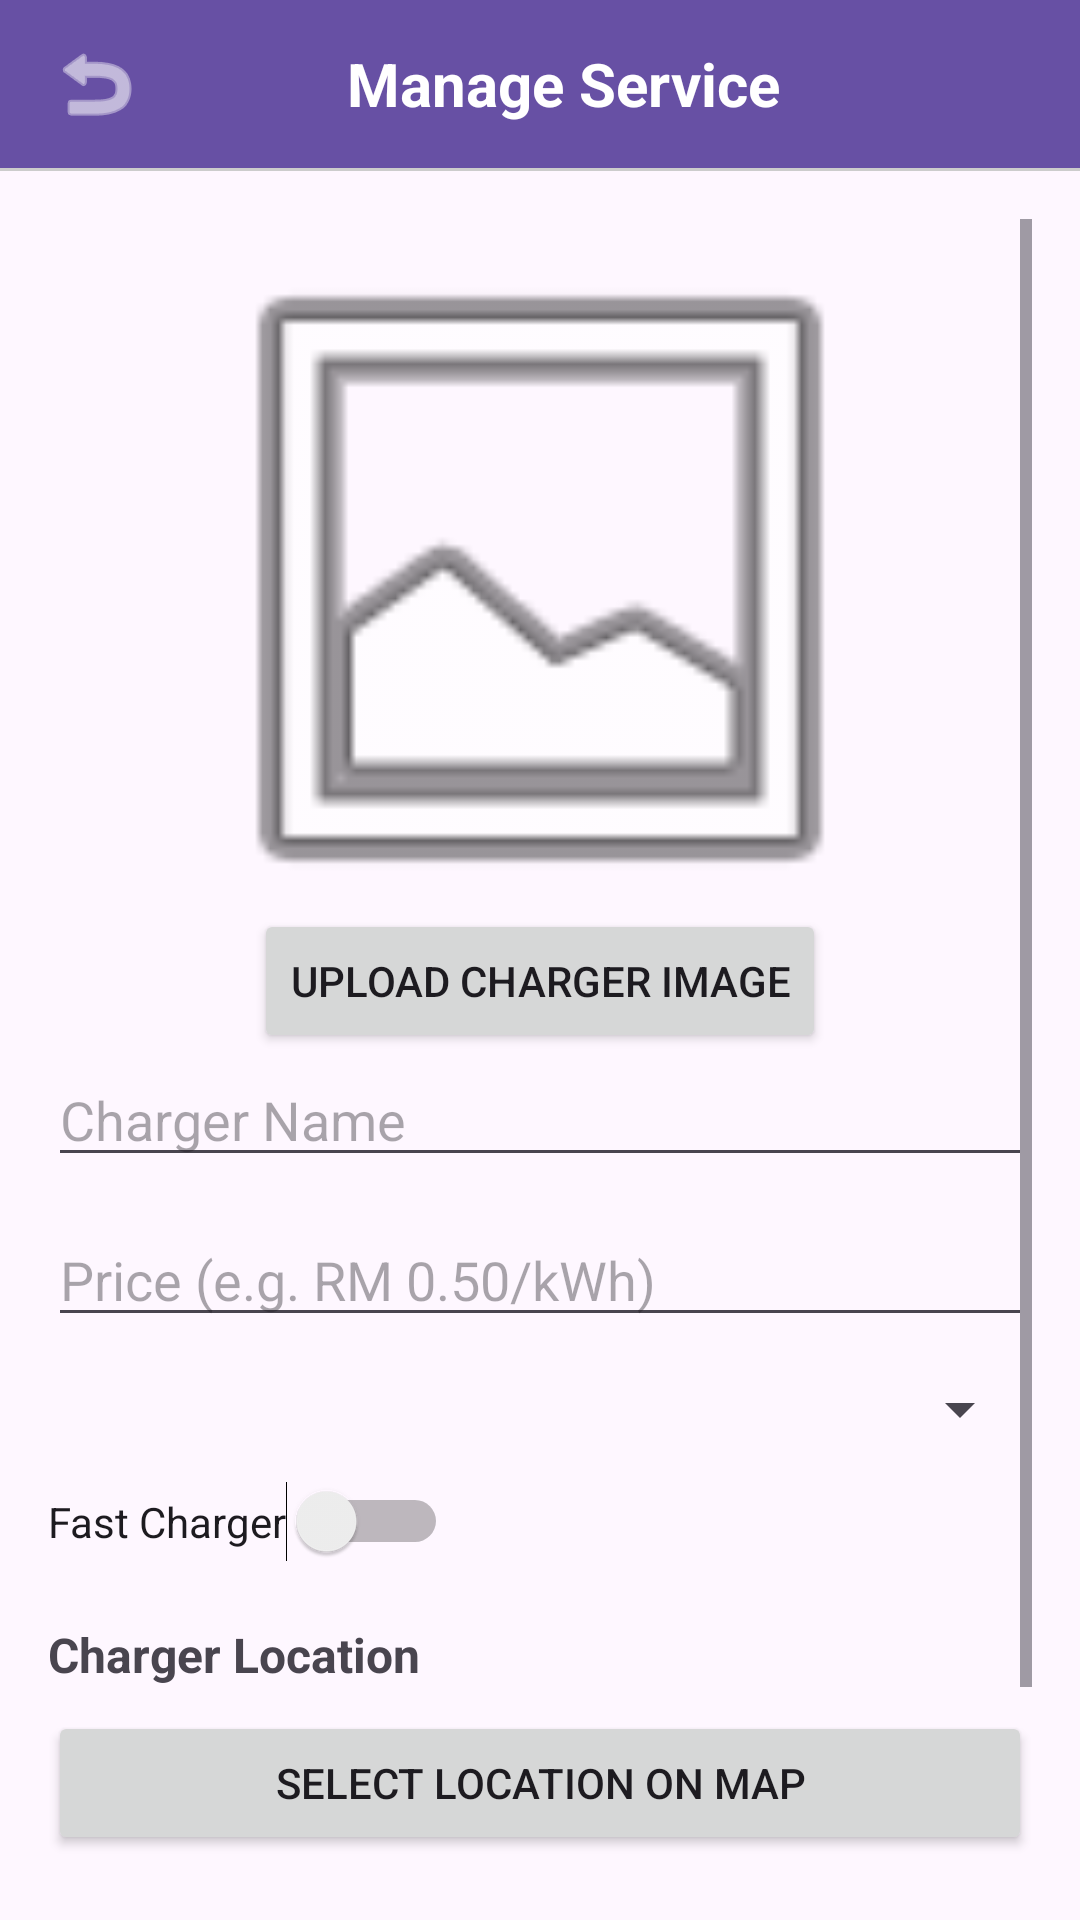

Named icons in this screenshot (1080*1920) and their bounding boxes, bbox(x1, y1, x2, y2):
Back: bbox(63, 53, 132, 116)
